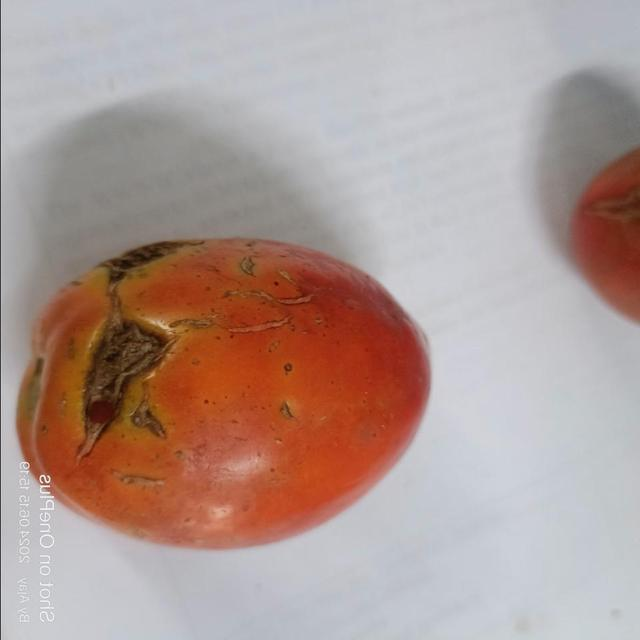Cracking Fruit: (76, 124, 162, 333)
